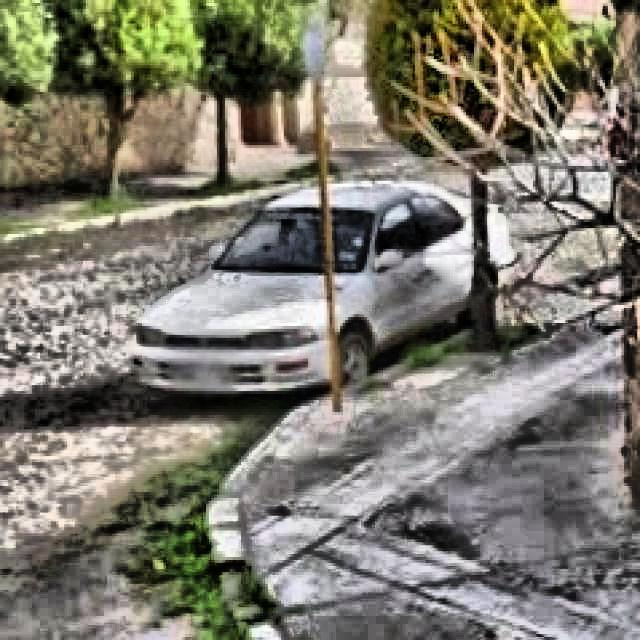carro: (123, 167, 514, 434)
